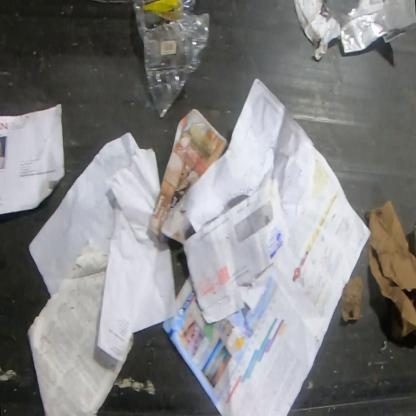cardboard: (367, 200, 415, 340), (342, 275, 364, 323)
rigid_plastic: (134, 0, 211, 119)
